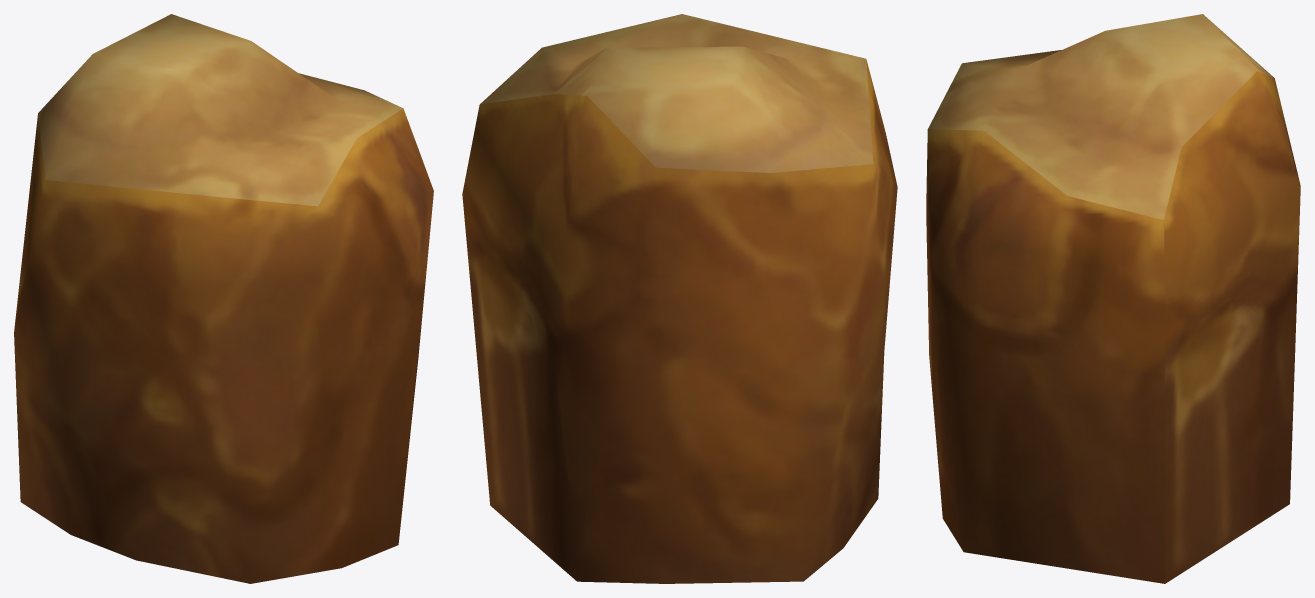
File: Stage_ShaMo_ShanShi06.FBX
3 renders of one model, left to right at view 1: azimuth 30°, elevation 25°; view 2: azimuth 150°, elevation 25°; view 3: azimuth 270°, elevation 25°, orthographic. The views are drawn at different scales.
Visible parts, largest first — view 1: Stage_ShaMo_ShanShi06; view 2: Stage_ShaMo_ShanShi06; view 3: Stage_ShaMo_ShanShi06.
Boxes of the visible parts, <box> form: Stage_ShaMo_ShanShi06: <box>14,14,433,583</box>; Stage_ShaMo_ShanShi06: <box>462,14,897,583</box>; Stage_ShaMo_ShanShi06: <box>926,14,1300,583</box>.
Bounding box in the file's own units: 360 × 431 × 323.
